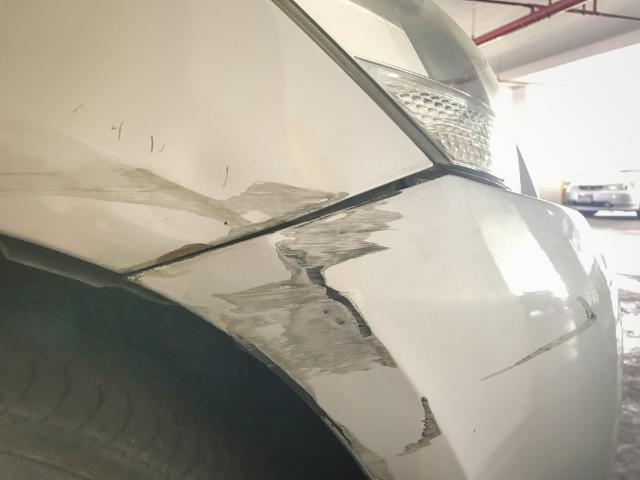scratch: (213, 189, 444, 480), (0, 163, 355, 252), (472, 295, 602, 384)
